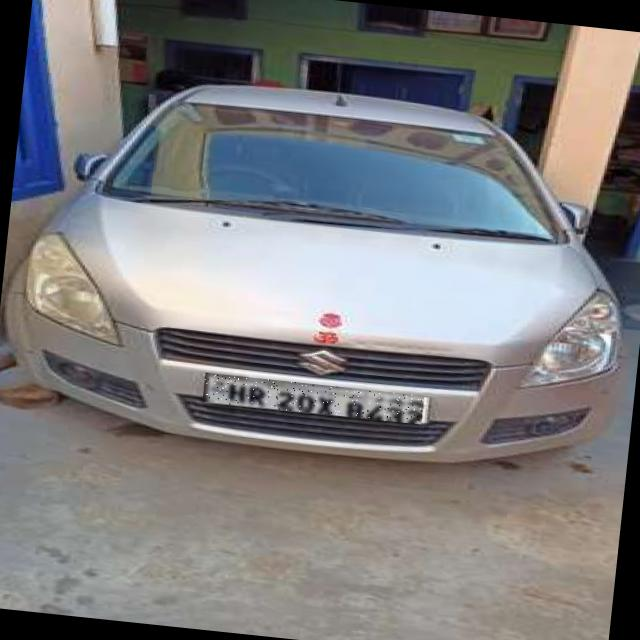Plate: (203, 373, 425, 425)
